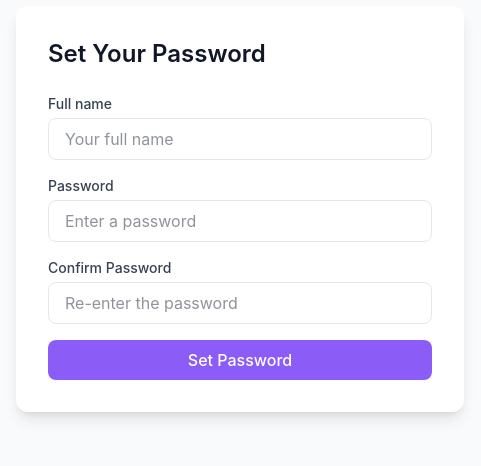
Test case: AcceptInvite — token_hash link (scanner-safe path) › does not set a password when the token is already spent
Type "Ada Lovelace" into the field labelled "Full name".
click(240, 139); type("Ada Lovelace")  # box x1=48 y1=118 x2=432 y2=160
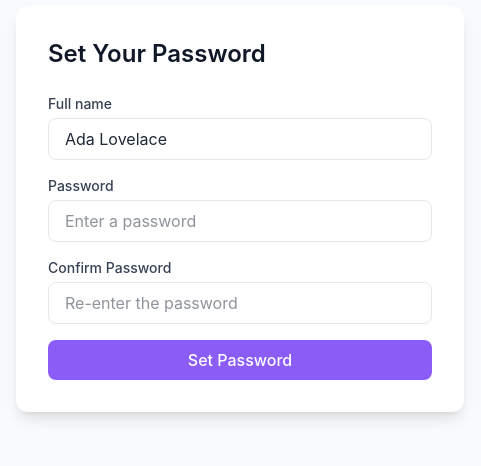
Type "secret123" into the password field labelled "Password".
click(240, 221); type("secret123")  # box x1=48 y1=200 x2=432 y2=242
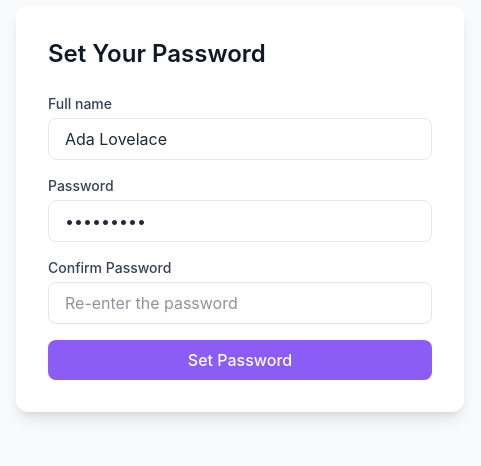
Type "secret123" into the password field labelled "Confirm Password".
click(240, 303); type("secret123")  # box x1=48 y1=282 x2=432 y2=324
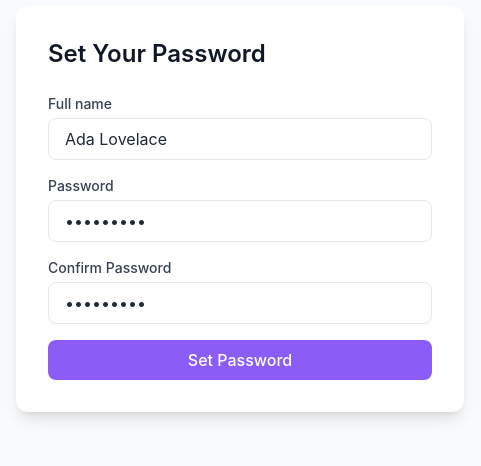
Click the button "Set Password".
click(240, 360)  # box x1=48 y1=340 x2=432 y2=380
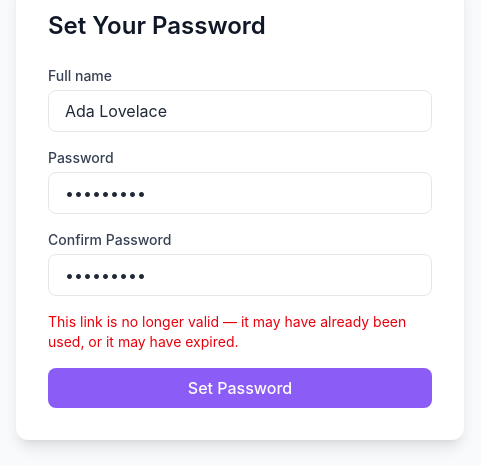
Check: the text "no longer valid" is shown, box x1=48 y1=313 x2=406 y2=350
